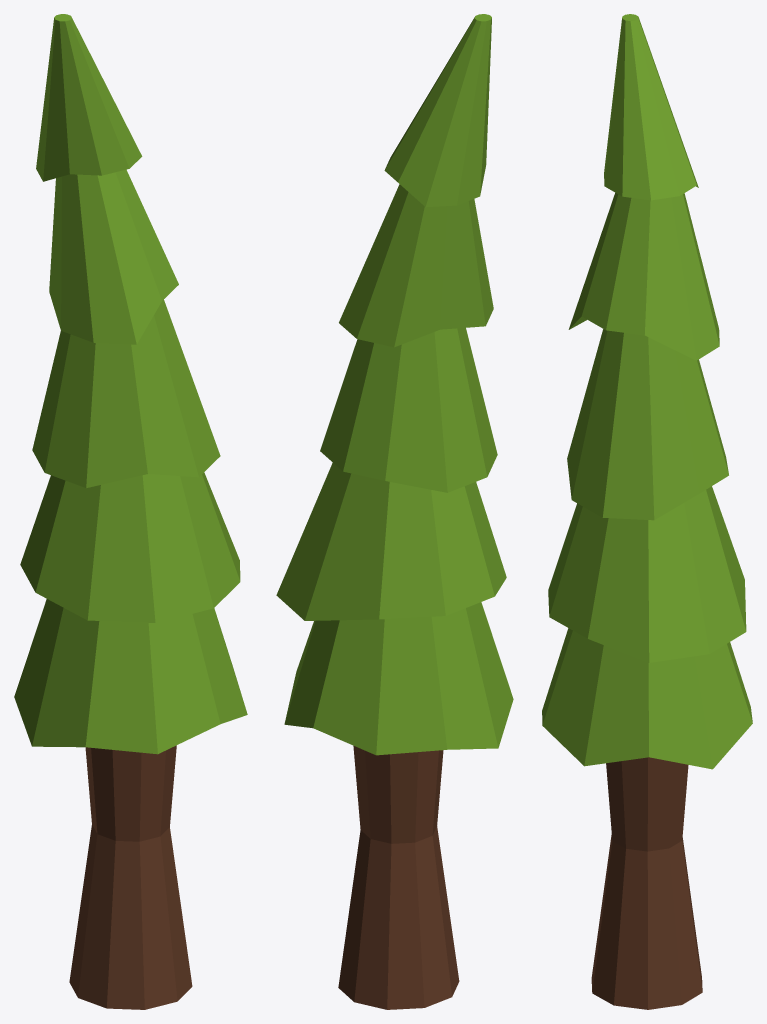
3 renders of one model, left to right at view 1: azimuth 30°, elevation 25°; view 2: azimuth 150°, elevation 25°; view 3: azimuth 270°, elevation 25°, orthographic. The views are drawn at different scales.
Visible parts, largest first — view 1: t4-green; view 2: t4-green; view 3: t4-green.
Part boxes in pixels (x1=…): t4-green: x1=14, y1=14, x2=247, y2=1009; t4-green: x1=276, y1=14, x2=513, y2=1009; t4-green: x1=542, y1=14, x2=752, y2=1009.
Bounding box in the file's own units: 224 × 1009 × 207.
